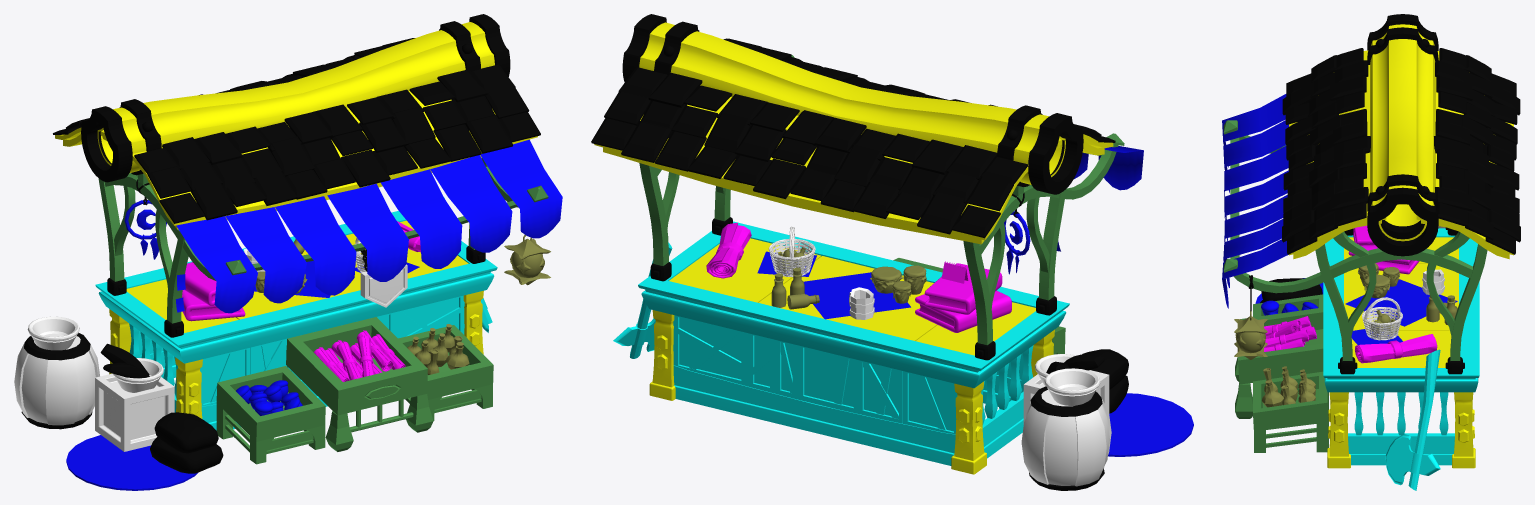
The model's file is cafee.fbx.
The picture shows the model from 3 angles, left to right: view 1: azimuth 30°, elevation 25°; view 2: azimuth 150°, elevation 25°; view 3: azimuth 270°, elevation 25°; orthographic projection. The views are drawn at different scales.
Visible parts, largest first — view 1: pTorus18; view 2: pTorus18; view 3: pTorus18.
Part boxes in pixels (<box>): pTorus18: <box>14,14,562,490</box>; pTorus18: <box>591,14,1193,490</box>; pTorus18: <box>1222,14,1520,490</box>.
Bounding box in the file's own units: 48.05 × 30.85 × 28.21.
